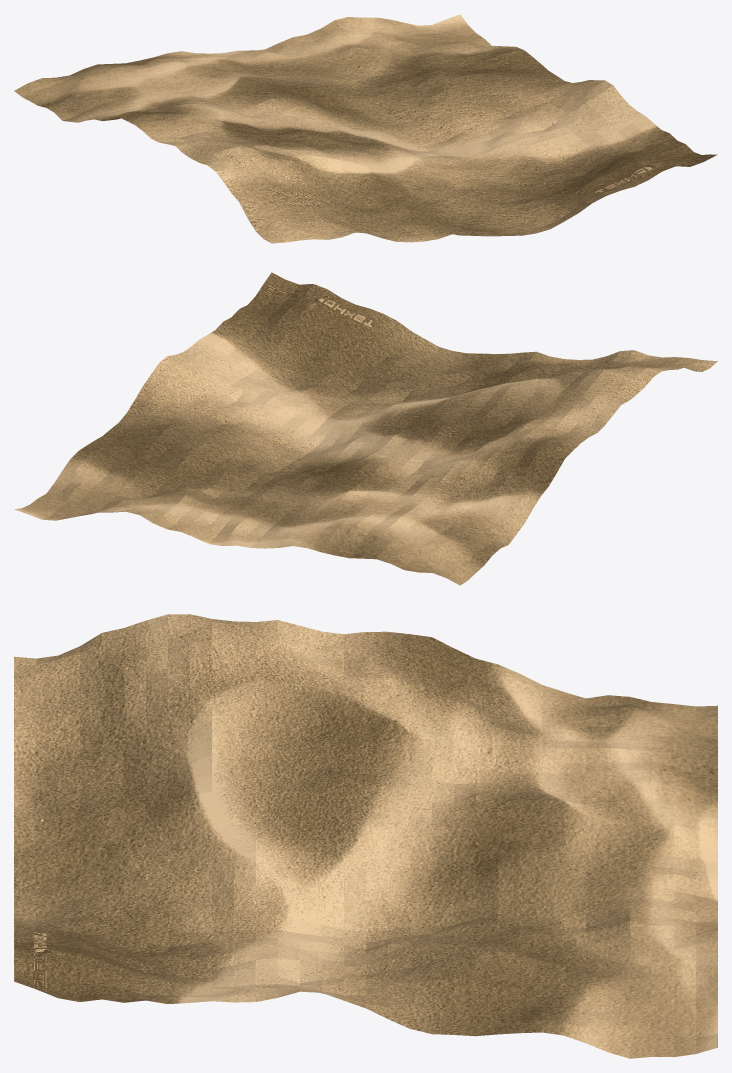
Rendered from arena.fbx.
3 renders of one model, top to bottom at view 1: azimuth 30°, elevation 25°; view 2: azimuth 150°, elevation 25°; view 3: azimuth 270°, elevation 25°, orthographic. The views are drawn at different scales.
Visible parts, largest first — view 1: Plano; view 2: Plano; view 3: Plano.
Boxes of the visible parts, x1=… form: Plano: x1=14, y1=14, x2=717, y2=243; Plano: x1=15, y1=272, x2=717, y2=585; Plano: x1=14, y1=614, x2=717, y2=1058.
Bounding box in the file's own units: 200 × 47.43 × 200.
1 material, 1 textured.
